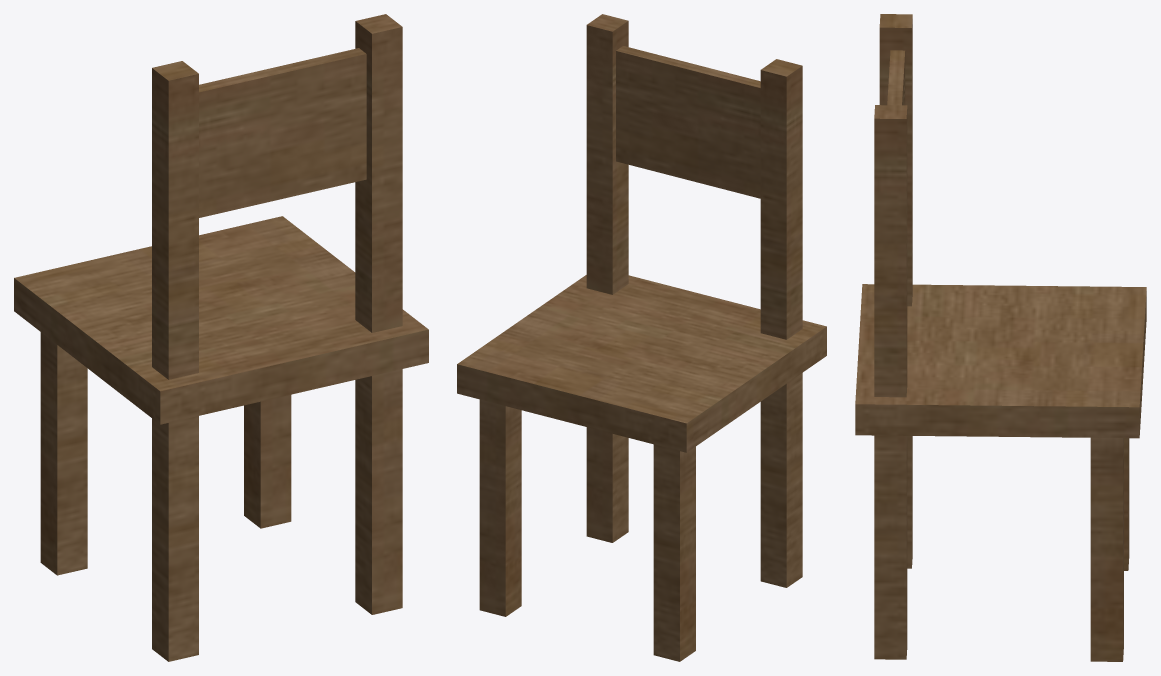
The picture shows the model from 3 angles, left to right: view 1: azimuth 30°, elevation 25°; view 2: azimuth 150°, elevation 25°; view 3: azimuth 270°, elevation 25°; orthographic projection. The views are drawn at different scales.
Parts seen in each view (by area): view 1: Cube193_Wood_05_0; view 2: Cube193_Wood_05_0; view 3: Cube193_Wood_05_0.
Boxes of the visible parts, bbox=[...] form: Cube193_Wood_05_0: bbox=[14, 14, 428, 661]; Cube193_Wood_05_0: bbox=[457, 14, 826, 661]; Cube193_Wood_05_0: bbox=[855, 14, 1146, 661].
Bounding box in the file's own units: 0.51 × 1.04 × 0.51.
1 material, 1 textured.
